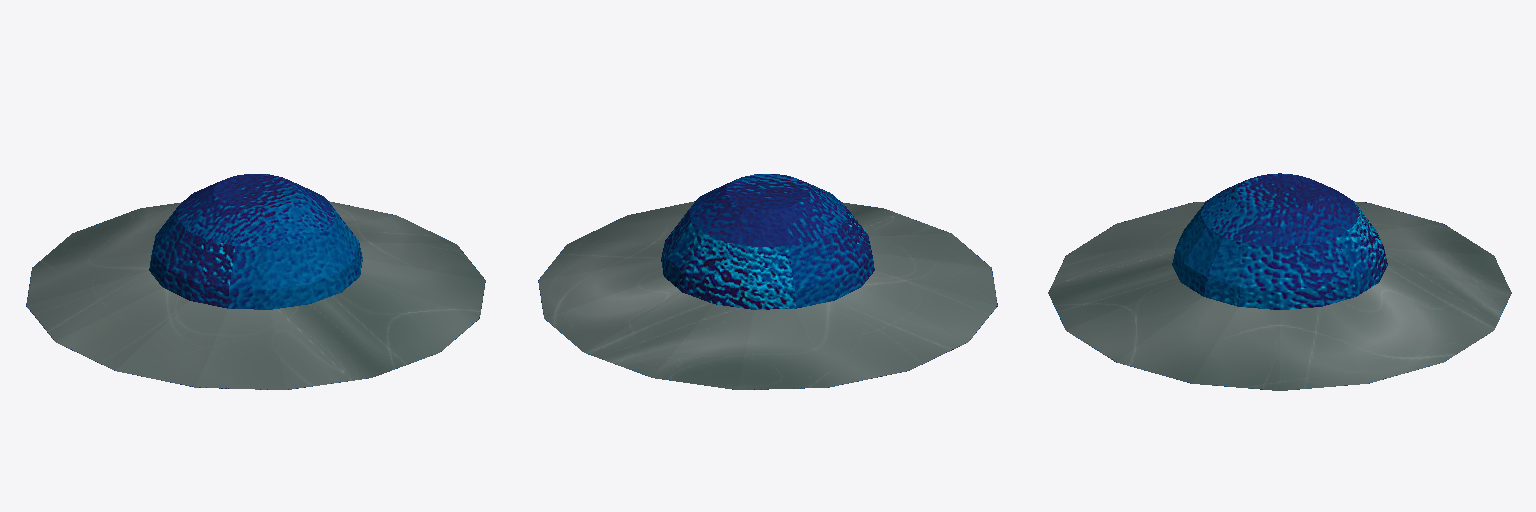
3 views of the same model, side by side, from view 1: azimuth 30°, elevation 25°; view 2: azimuth 150°, elevation 25°; view 3: azimuth 270°, elevation 25° (orthographic).
Parts seen in each view (by area): view 1: sphere1; view 2: sphere1; view 3: sphere1.
Part boxes in pixels (x1,y1,x2,y2): sphere1: (26,174,485,389); sphere1: (538,174,997,389); sphere1: (1048,173,1511,390).
Bounding box in the file's own units: 4.12 × 1.26 × 4.12.
2 materials, 2 textured.